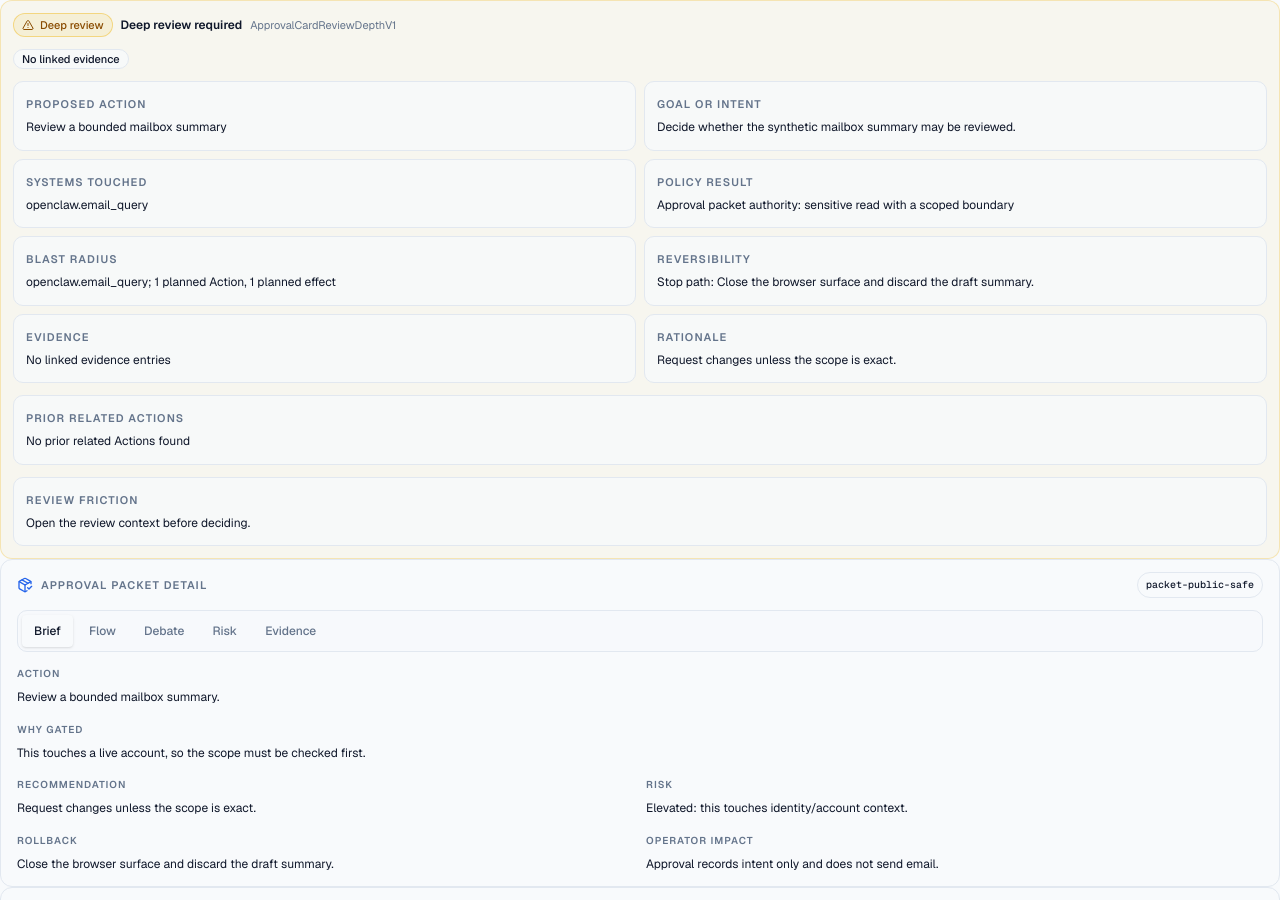
Scenario: TriageDefaultContent approval packet views › renders the compact brief first and exposes flow, debate, risk, and evidence views
Check: the text "Review a bounded mailbox summary." is shown, box [17, 689, 219, 705]
Check: the text "Request changes unless the scope is exact." below "Rationale" is shown, box [657, 352, 896, 368]
Click the button "Flow" at (102, 631), box [77, 615, 128, 647]
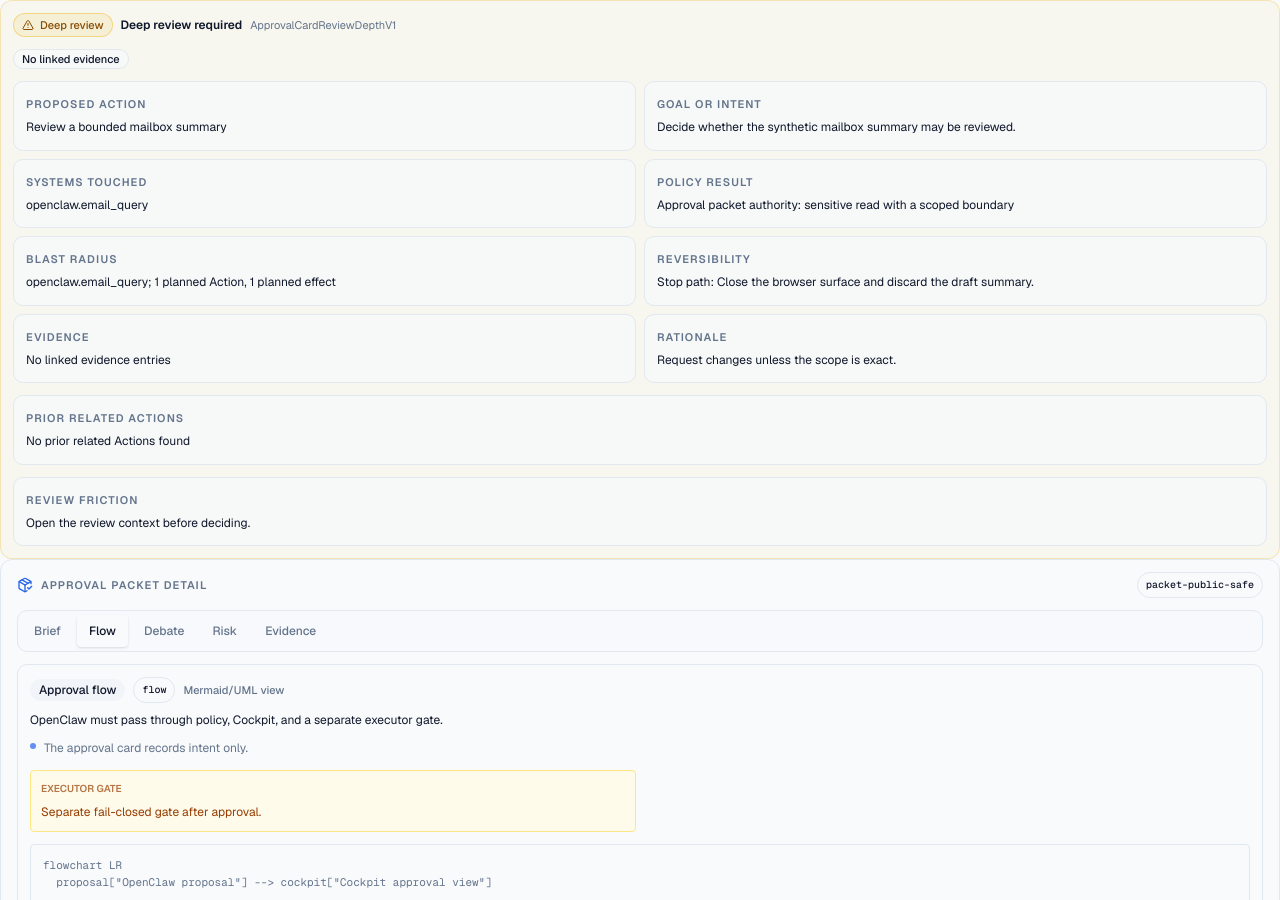
Check: the text "Approval flow" is shown, box [30, 679, 126, 701]
Check: the text named "Approval flow diagram" shows "flowchart LR", box [43, 858, 492, 889]
Check: the text "Executor gate" is shown, box [41, 782, 122, 795]
Click the button "Debate" at (164, 631), box [132, 615, 196, 647]
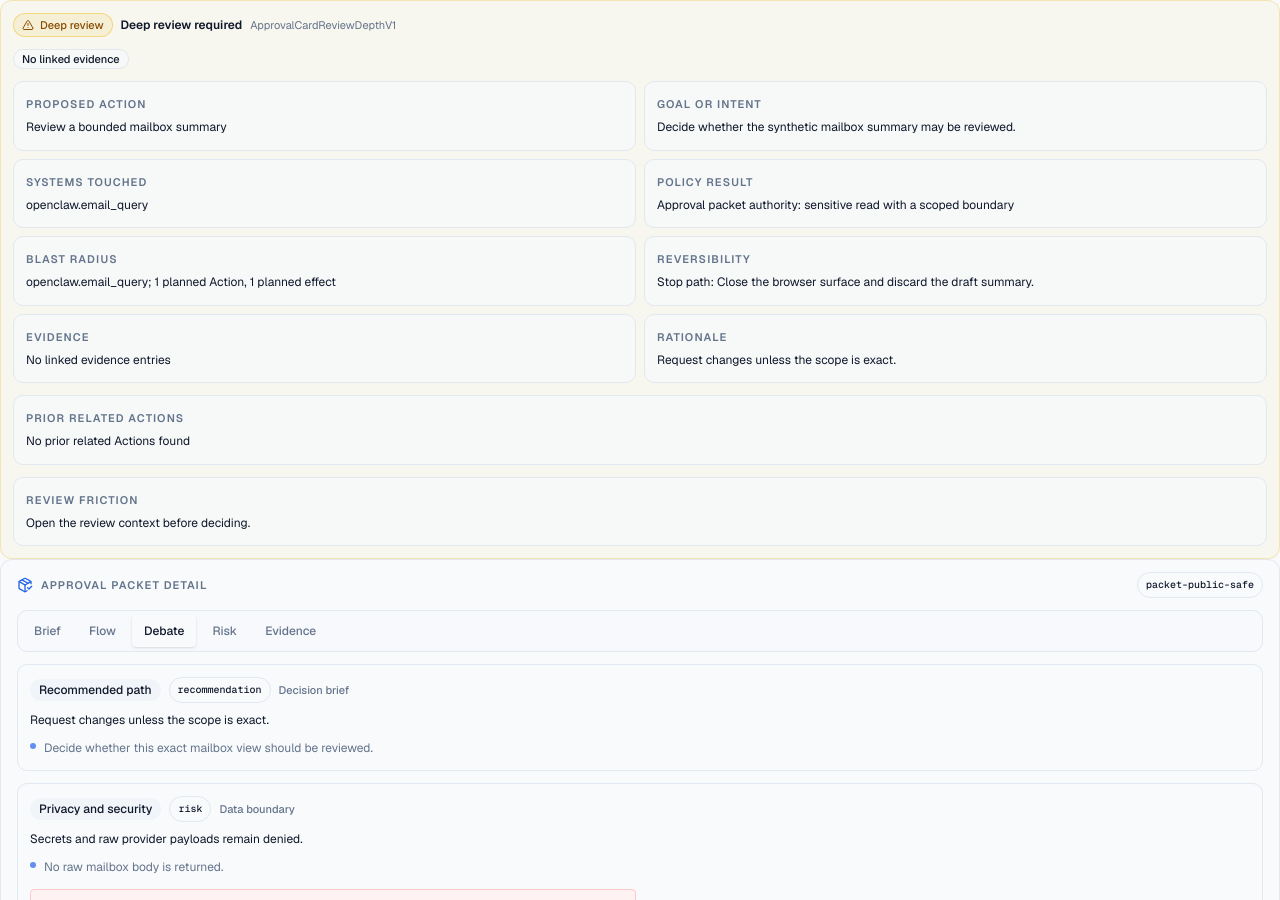
Check: the text "Recommended path" is shown, box [30, 679, 160, 701]
Check: the text "Privacy and security" is shown, box [30, 798, 161, 820]
Check: the text "Approval flow" is gone
Click the button "Risk" at (225, 631), box [200, 615, 249, 647]
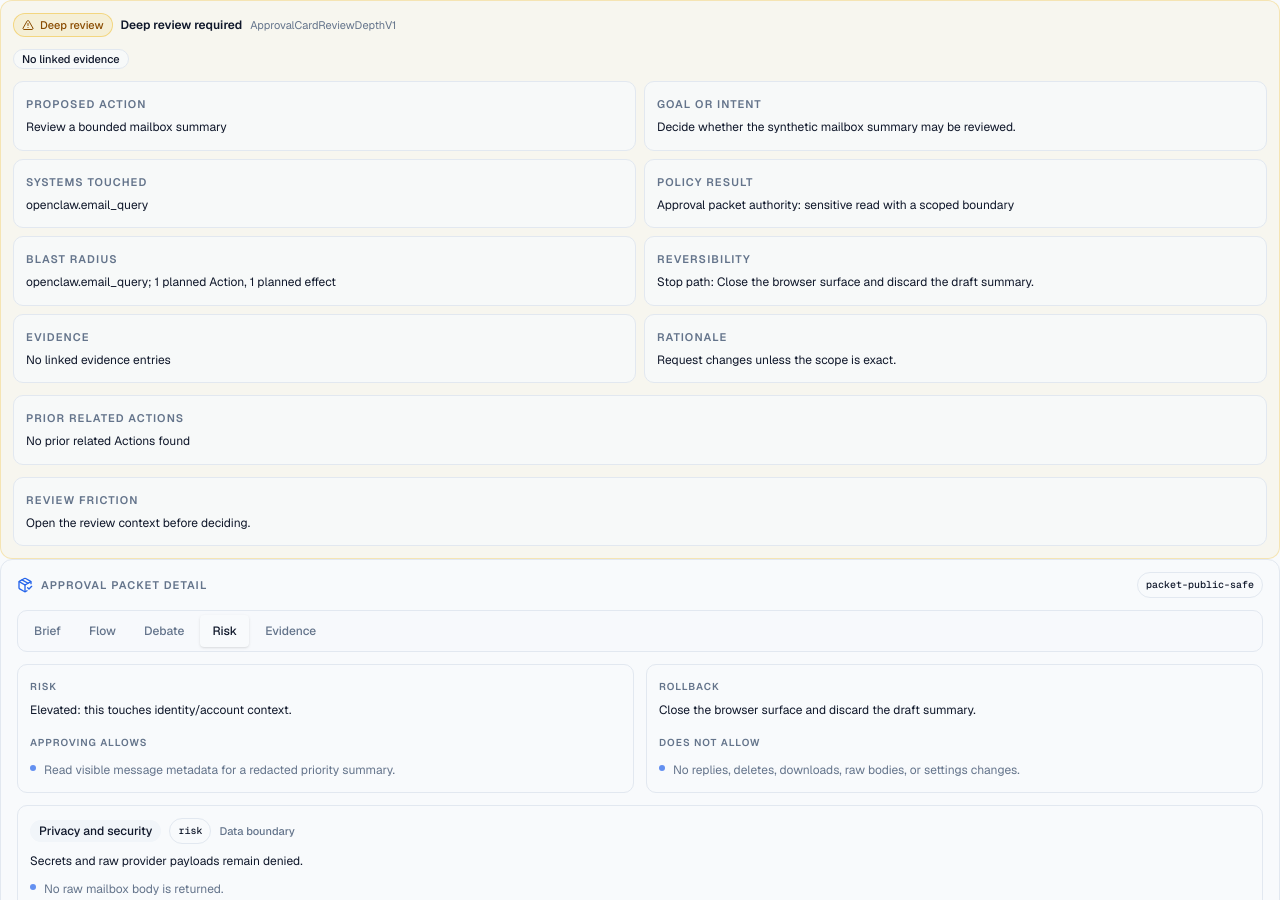
Check: the text "Approving allows" is shown, box [30, 736, 148, 748]
Check: the text "No replies, deletes, downloads, raw bodies, or settings changes." is shown, box [673, 760, 1020, 780]
Click the button "Evidence" at (291, 631), box [253, 615, 328, 647]
(page scrolled)
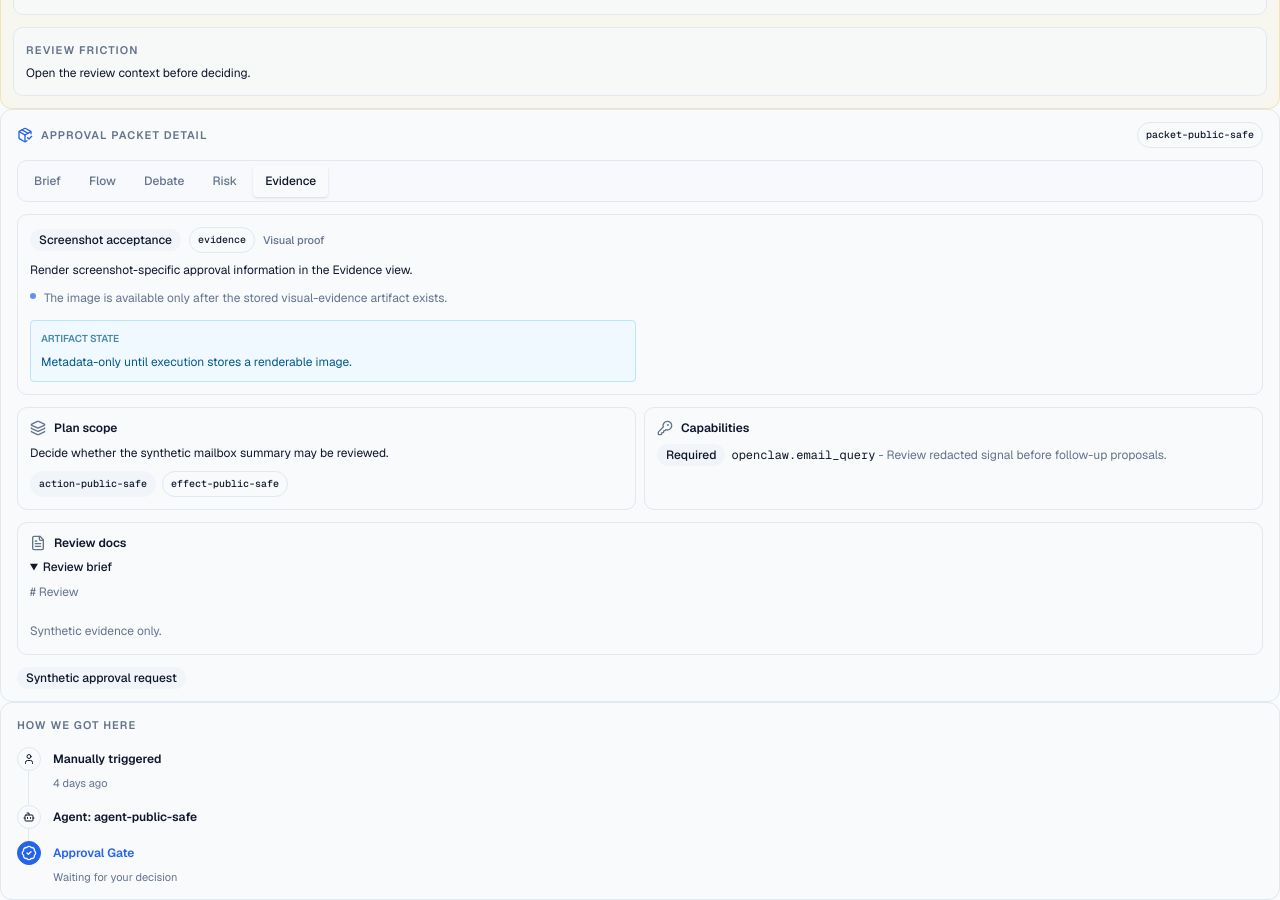
Check: the text "Screenshot acceptance" is shown, box [30, 229, 181, 251]
Check: the text "Artifact state" is shown, box [41, 332, 119, 345]
Check: the text "Plan scope" is shown, box [30, 420, 117, 436]
